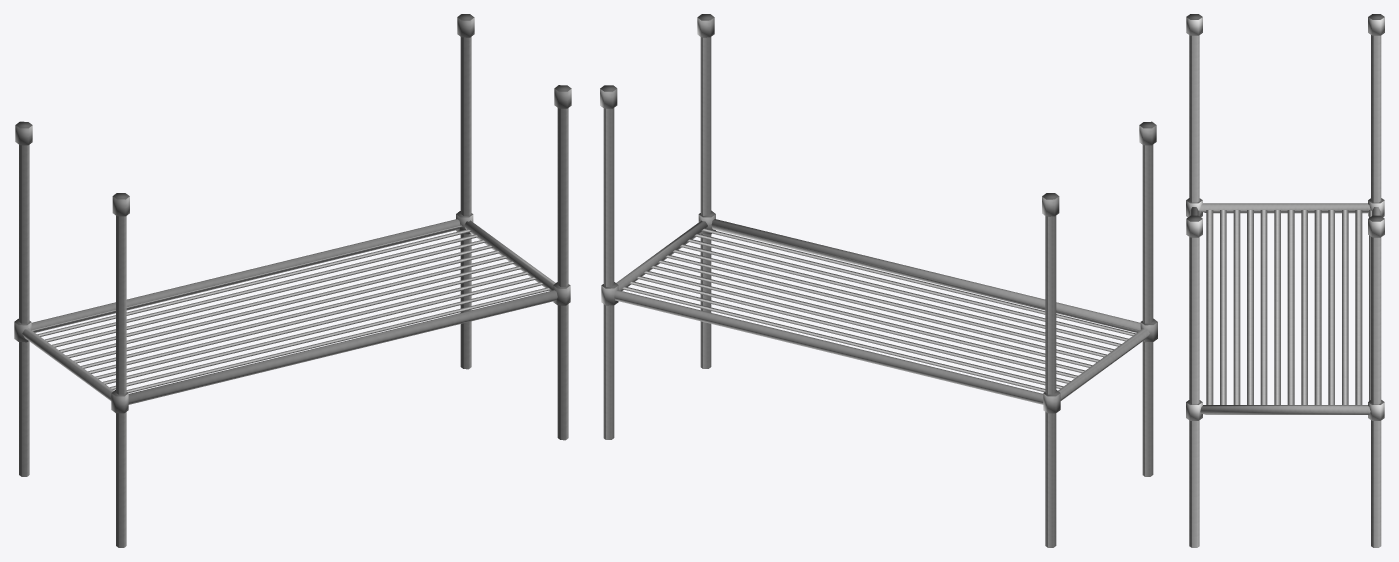
Rendered from Classic64_MetalRackStackable_Model.fbx.
3 renders of one model, left to right at view 1: azimuth 30°, elevation 25°; view 2: azimuth 150°, elevation 25°; view 3: azimuth 270°, elevation 25°, orthographic. The views are drawn at different scales.
Visible parts, largest first — view 1: Classic64_MetalRackStackable_Part001, Classic64_MetalRackStackable_Part000, Classic64_MetalRackStackable_Part002; view 2: Classic64_MetalRackStackable_Part001, Classic64_MetalRackStackable_Part000, Classic64_MetalRackStackable_Part002; view 3: Classic64_MetalRackStackable_Part001, Classic64_MetalRackStackable_Part000, Classic64_MetalRackStackable_Part002.
Part boxes in pixels (box(x1,y1,x2,y2)): Classic64_MetalRackStackable_Part001: box(32, 225, 550, 392); Classic64_MetalRackStackable_Part000: box(15, 14, 571, 547); Classic64_MetalRackStackable_Part002: box(14, 211, 570, 413); Classic64_MetalRackStackable_Part001: box(622, 225, 1139, 392); Classic64_MetalRackStackable_Part000: box(600, 14, 1156, 547); Classic64_MetalRackStackable_Part002: box(601, 210, 1157, 413); Classic64_MetalRackStackable_Part001: box(1198, 210, 1371, 404); Classic64_MetalRackStackable_Part000: box(1186, 14, 1384, 547); Classic64_MetalRackStackable_Part002: box(1186, 198, 1384, 420).
Bounding box in the file's own units: 1.46 × 1.07 × 0.5874.
Materials: 1 (1 with a texture image).
